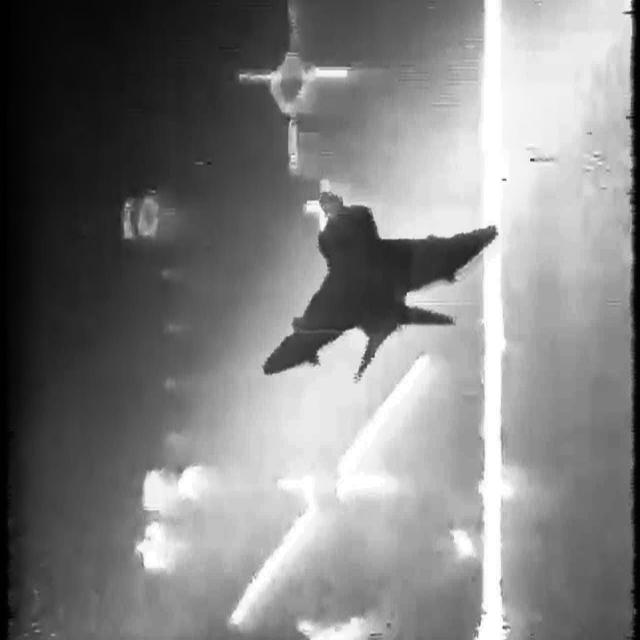Aircraft: (258, 183, 506, 393)
